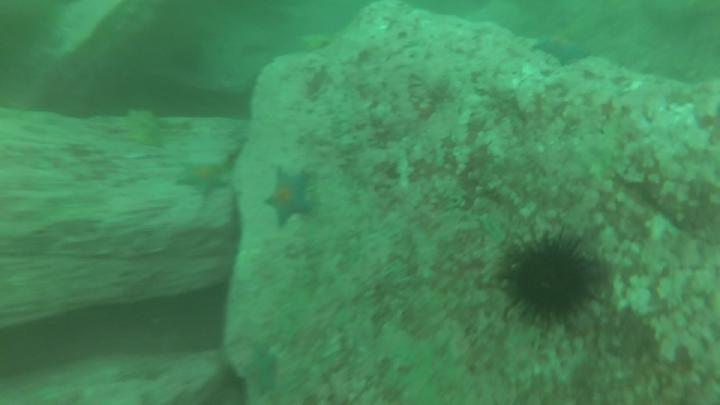echinus: (502, 228, 599, 331)
holothurian: (122, 108, 167, 155)
starfish: (261, 167, 319, 228), (175, 158, 232, 205), (529, 30, 594, 71), (240, 342, 282, 398)
